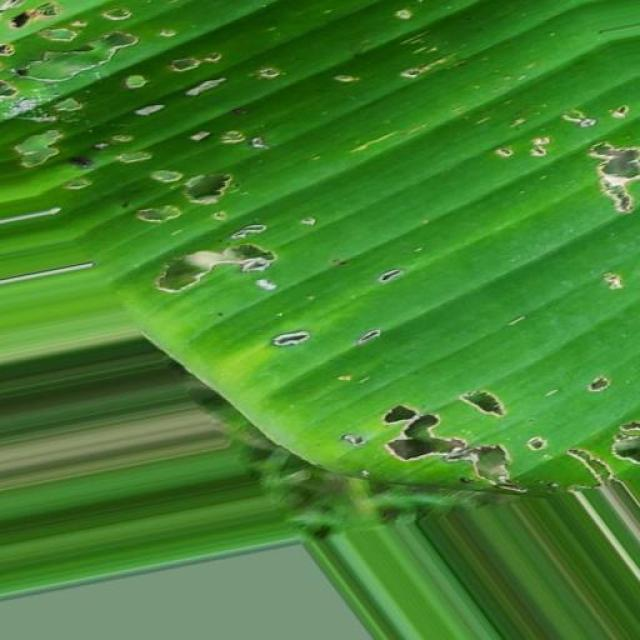Black_rot: (1, 1, 640, 528)
